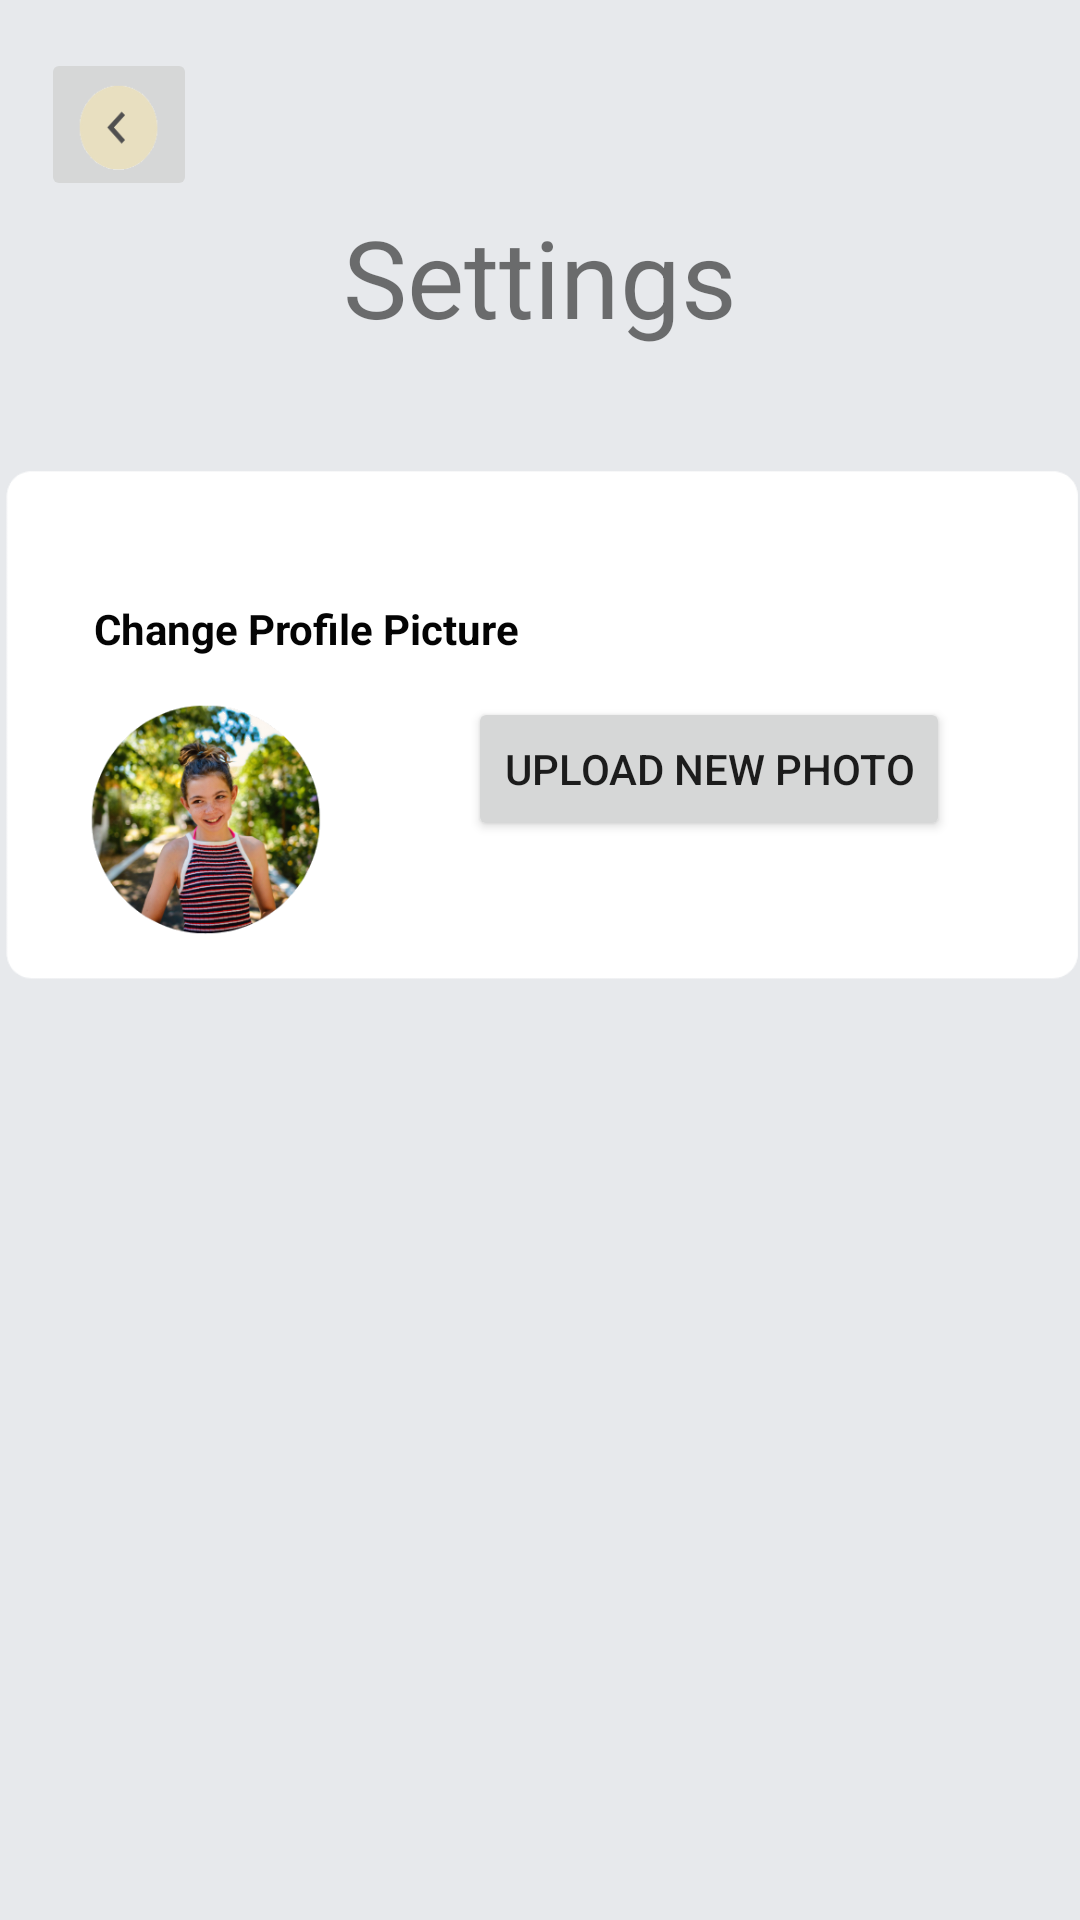

Locate icon controls on the screen. Image size 1080px x 1920px, boxes as [left=x1, top=y1, right=x2, bottom=y2].
back: [left=79, top=85, right=158, bottom=169]
